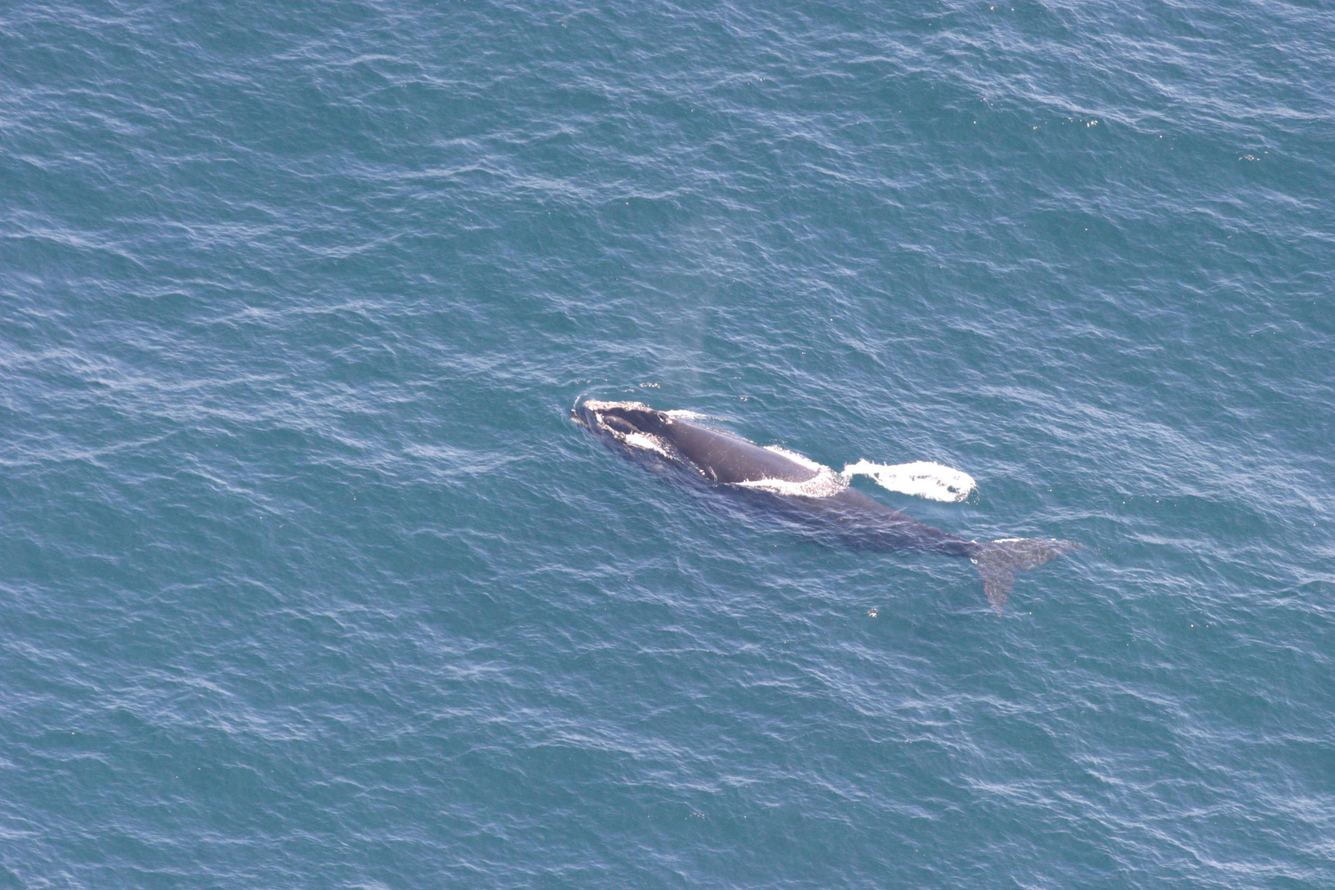whale: (568, 381, 1089, 627)
